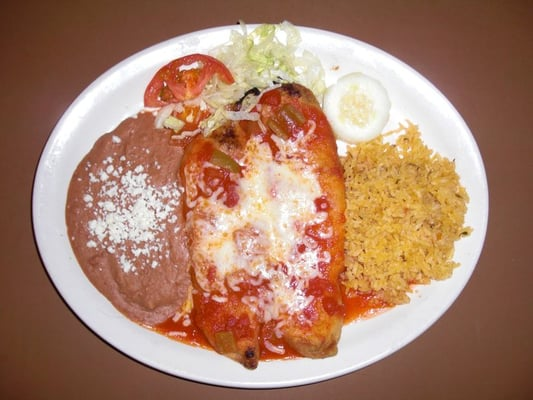curry: (6, 1, 531, 400)
